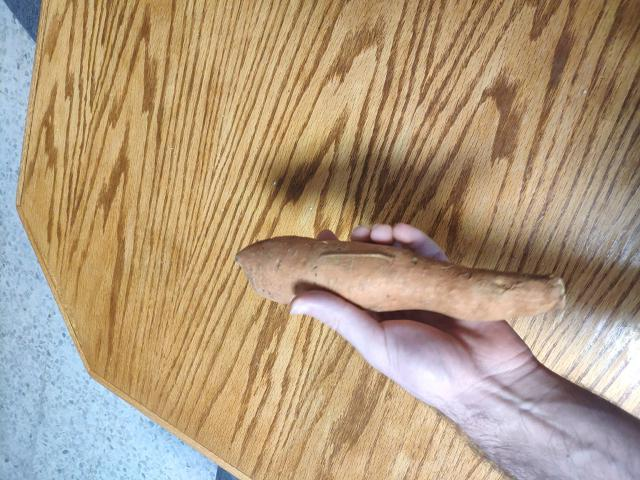sweet_potato: (229, 225, 579, 327)
